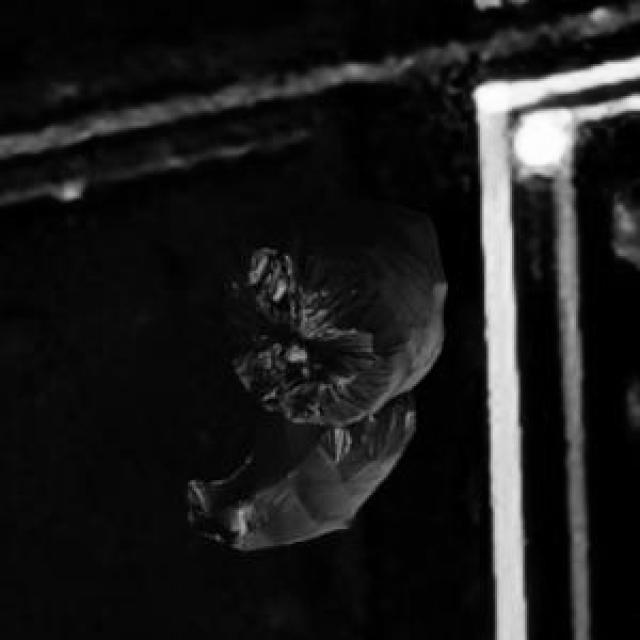miscellaneous trash: (181, 196, 442, 546)
